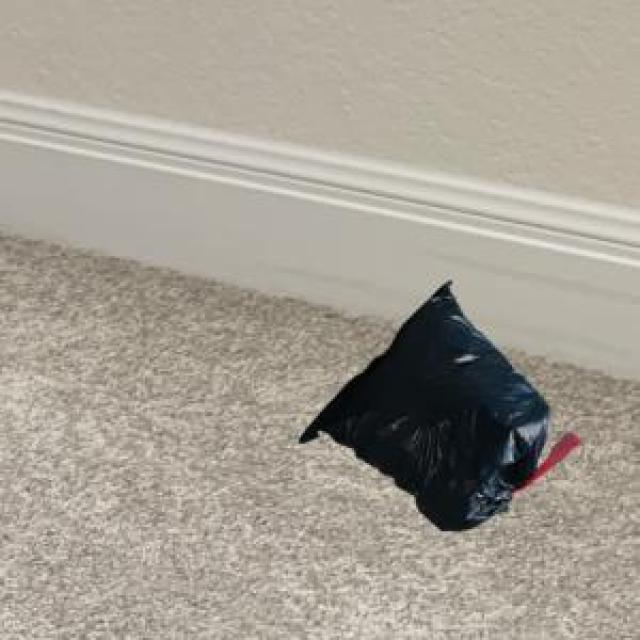Trashbag: (291, 274, 559, 544)
